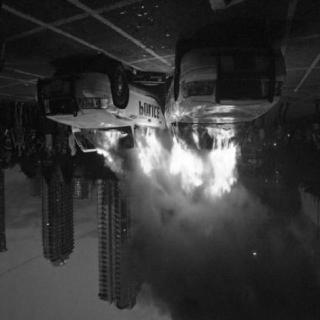Fire: (94, 120, 246, 196)
Smoke: (146, 199, 284, 303)
